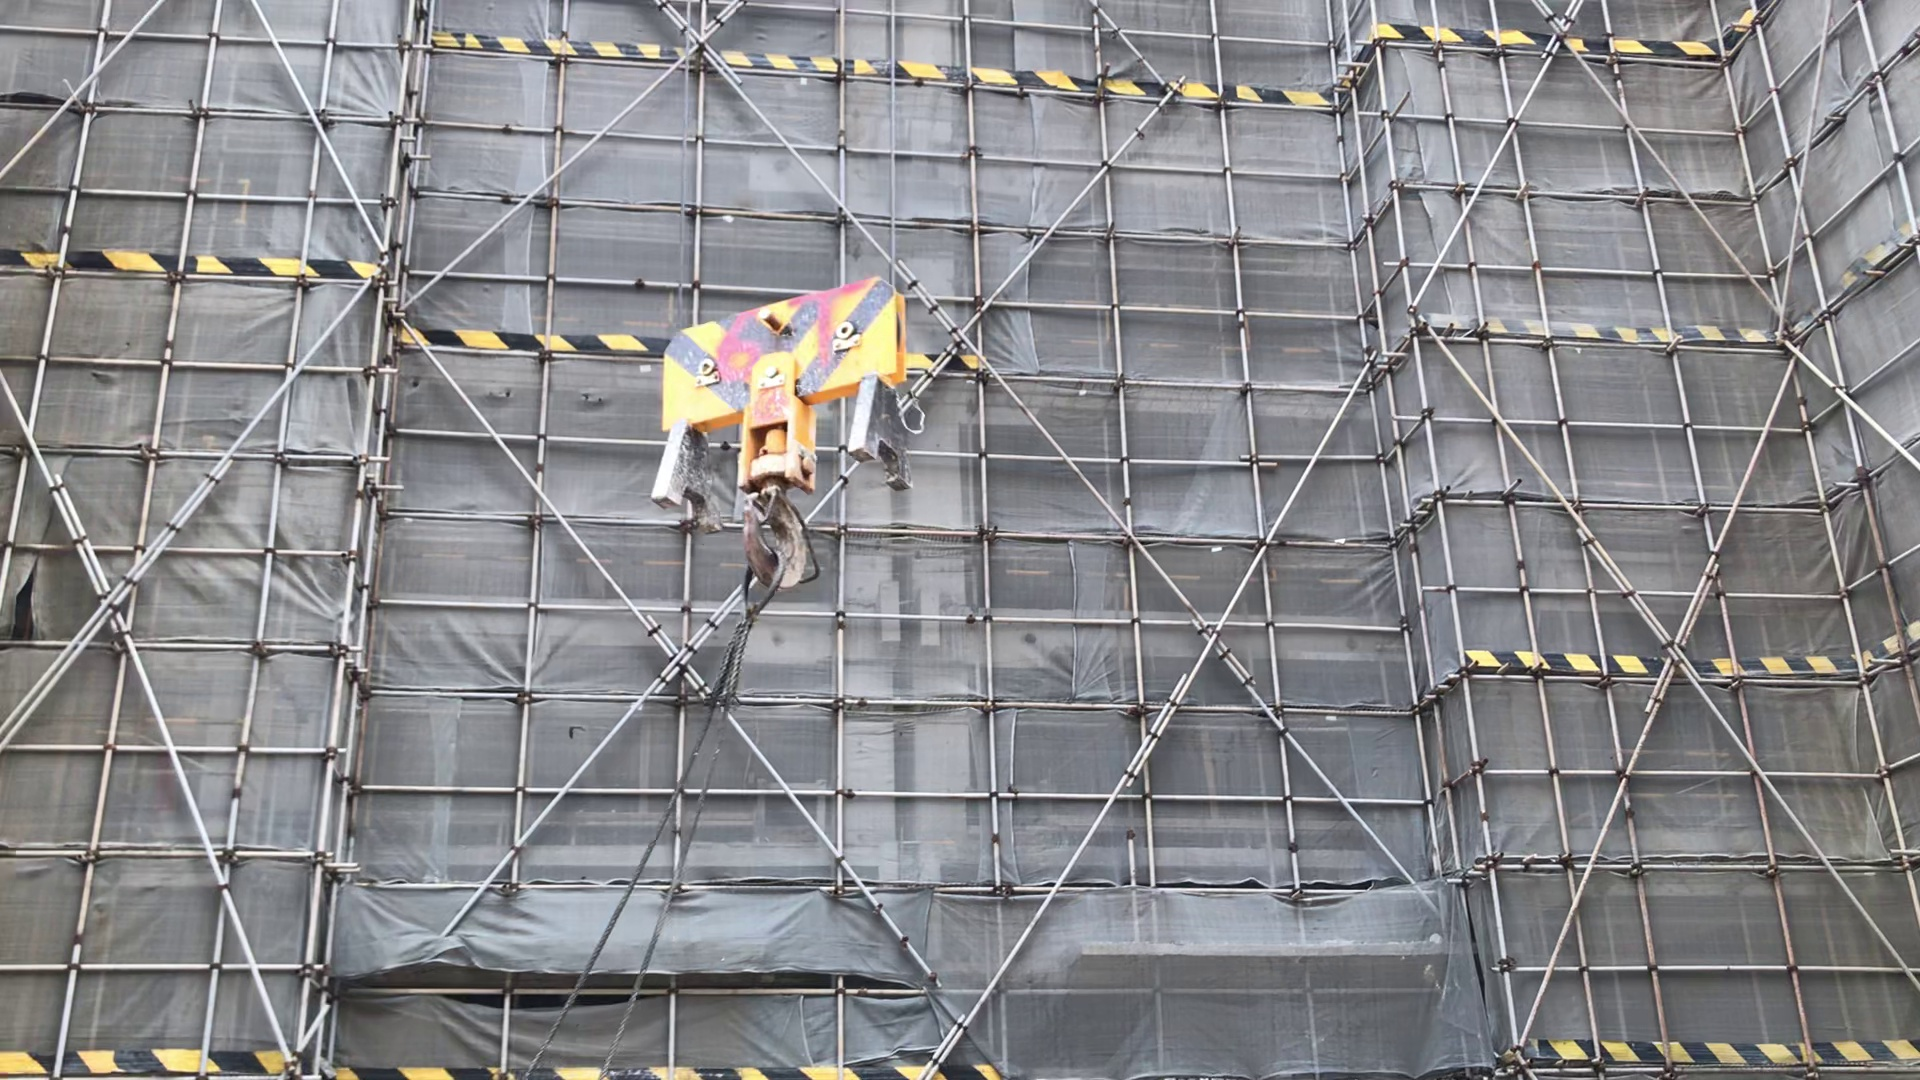hook: (662, 277, 911, 592)
